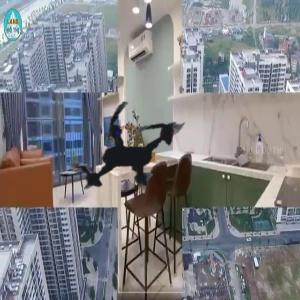drone: (25, 52, 232, 259)
